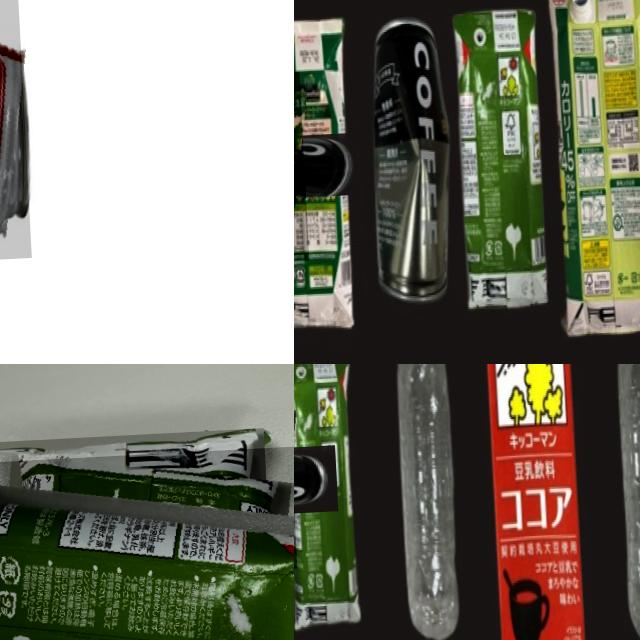Aluminium Foil: (0, 445, 294, 640), (475, 364, 592, 640), (546, 0, 640, 342), (451, 3, 552, 313), (294, 12, 358, 340), (294, 364, 364, 634)
Can: (367, 18, 455, 299)
Transparent Plastic Bottle: (389, 364, 467, 640), (606, 364, 640, 640)
